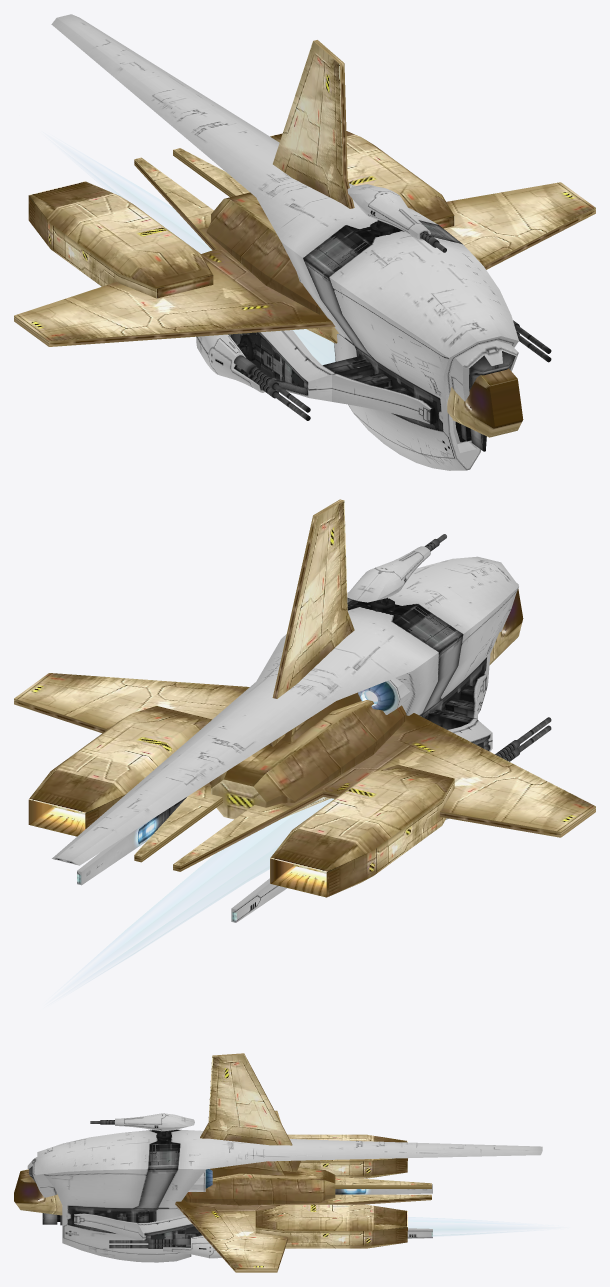
Rendered from drone_hyena.gltf.
3 views of the same model, one above another, from view 1: azimuth 30°, elevation 25°; view 2: azimuth 150°, elevation 25°; view 3: azimuth 270°, elevation 25° (orthographic). The views are drawn at different scales.
Visible parts, largest first — view 1: base_glow, base_glow_hyena, glow; view 2: base_glow_hyena, base_glow, glow; view 3: base_glow, base_glow_hyena, glow.
Part boxes in pixels (x1,y1,x2,y2): base_glow: (51,14,551,470); base_glow_hyena: (14,40,595,437); glow: (101,172,335,364); base_glow_hyena: (14,499,595,897); base_glow: (52,534,551,922); glow: (106,799,333,965); base_glow: (27,1113,542,1262); base_glow_hyena: (14,1053,431,1272); glow: (408,1220,500,1235).
Bounding box in the file's own units: 99.5 × 60.68 × 154.
Materials: 3 (3 with a texture image).
